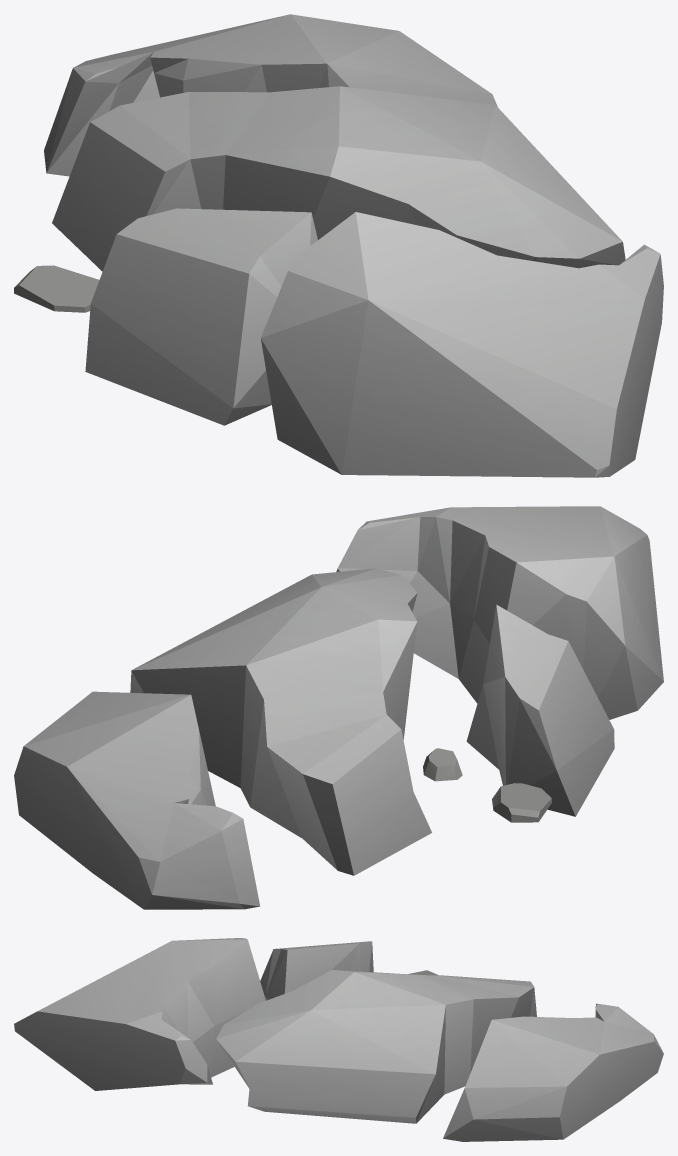
The model's file is CrystalBroke_C.FBX.
3 renders of one model, top to bottom at view 1: azimuth 30°, elevation 25°; view 2: azimuth 150°, elevation 25°; view 3: azimuth 270°, elevation 25°, orthographic. The views are drawn at different scales.
Parts seen in each view (by area): view 1: CrystalBroke_C-01, CrystalBroke_C-02, CrystalBroke_C-04, CrystalBroke_C-03, CrystalBroke_C-05; view 2: CrystalBroke_C-02, CrystalBroke_C-01, CrystalBroke_C-03, CrystalBroke_C-04, CrystalBroke_C-05, CrystalBroke_C-06; view 3: CrystalBroke_C-02, CrystalBroke_C-01, CrystalBroke_C-03, CrystalBroke_C-04.
Boxes of the visible parts, x1=… form: CrystalBroke_C-01: x1=260, y1=212, x2=663, y2=477; CrystalBroke_C-02: x1=52, y1=86, x2=625, y2=271; CrystalBroke_C-04: x1=85, y1=208, x2=317, y2=425; CrystalBroke_C-03: x1=44, y1=14, x2=497, y2=176; CrystalBroke_C-05: x1=14, y1=265, x2=99, y2=312; CrystalBroke_C-02: x1=130, y1=568, x2=431, y2=875; CrystalBroke_C-01: x1=336, y1=506, x2=663, y2=719; CrystalBroke_C-03: x1=14, y1=691, x2=260, y2=909; CrystalBroke_C-04: x1=466, y1=604, x2=614, y2=816; CrystalBroke_C-05: x1=492, y1=783, x2=551, y2=822; CrystalBroke_C-06: x1=423, y1=748, x2=462, y2=781; CrystalBroke_C-02: x1=216, y1=970, x2=536, y2=1123; CrystalBroke_C-01: x1=14, y1=938, x2=265, y2=1090; CrystalBroke_C-03: x1=443, y1=1003, x2=663, y2=1141; CrystalBroke_C-04: x1=260, y1=941, x2=373, y2=1000.
Bounding box in the file's own units: 143 × 49.44 × 262.
Materials: 2 (2 with a texture image).
